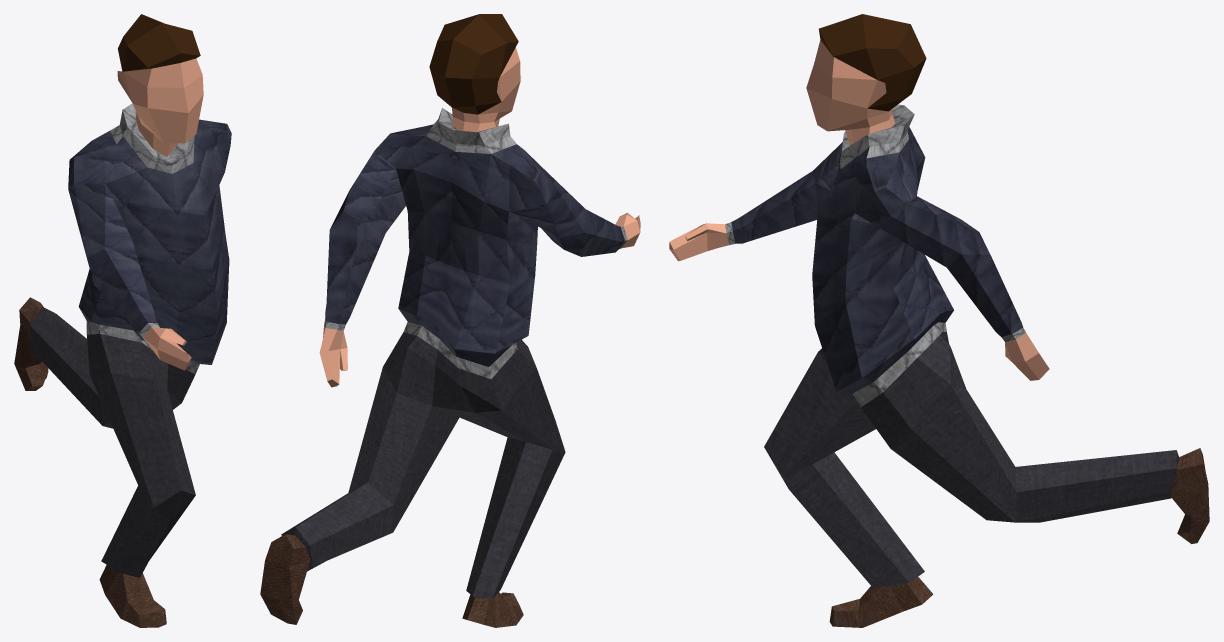
Rendered from AutumnBoy.008.glb.
3 renders of one model, left to right at view 1: azimuth 30°, elevation 25°; view 2: azimuth 150°, elevation 25°; view 3: azimuth 270°, elevation 25°, orthographic. The views are drawn at different scales.
Parts seen in each view (by area): view 1: AutumnBoy.008; view 2: AutumnBoy.008; view 3: AutumnBoy.008.
Boxes of the visible parts, box(x1,y1,x2,y2) form: AutumnBoy.008: box(14, 14, 231, 627); AutumnBoy.008: box(260, 14, 640, 627); AutumnBoy.008: box(669, 14, 1209, 627).
Size of the model in its own units: 0.4432 by 1.39 by 1.1.
1 material, 1 textured.
